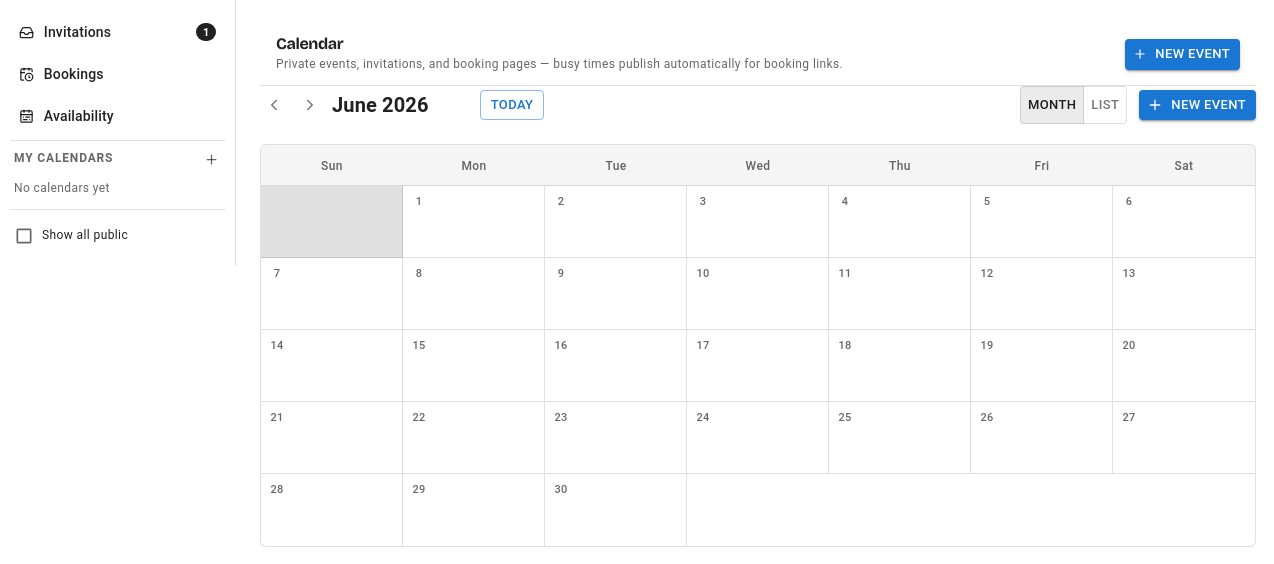
Test case: CalendarPage view switching › opens the invitations view from the rail and returns
Click the button "Invitations 1".
click(118, 32)  # box [10,14,225,50]
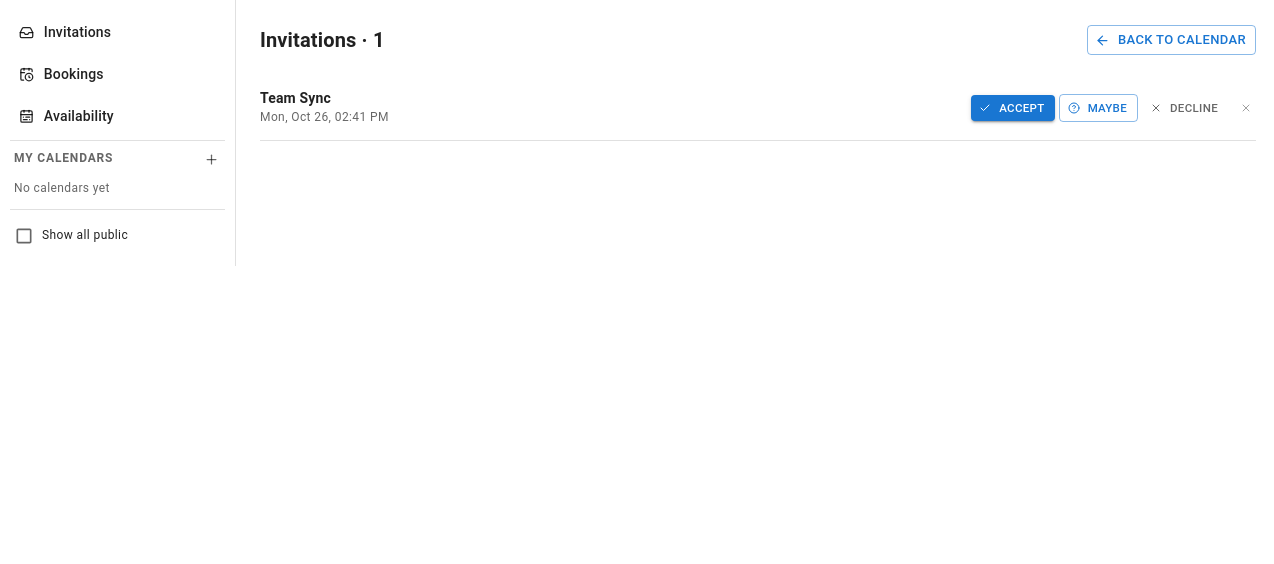
Check: the heading "Invitations · 1" is shown, box [260,24,384,56]
Check: the text "Team Sync" is shown, box [260,88,331,108]
Check: the button "New event" is gone
Click the button "Back to calendar".
click(1172, 40)  # box [1087,25,1256,55]
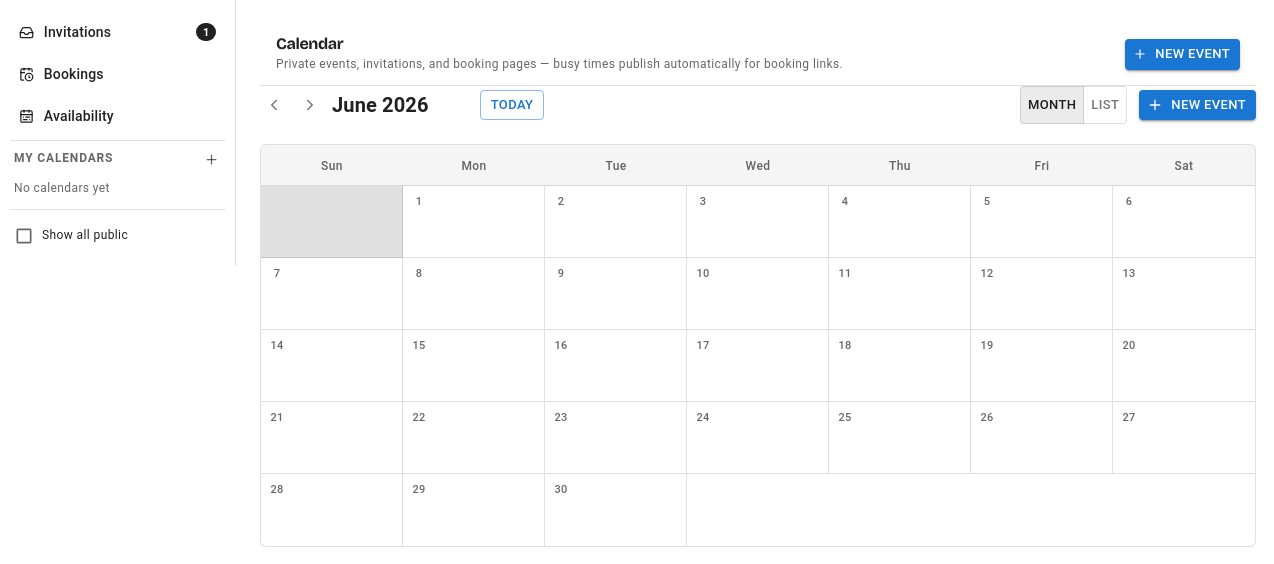
Check: the button "New event" is shown, box [1125,39,1240,70]
